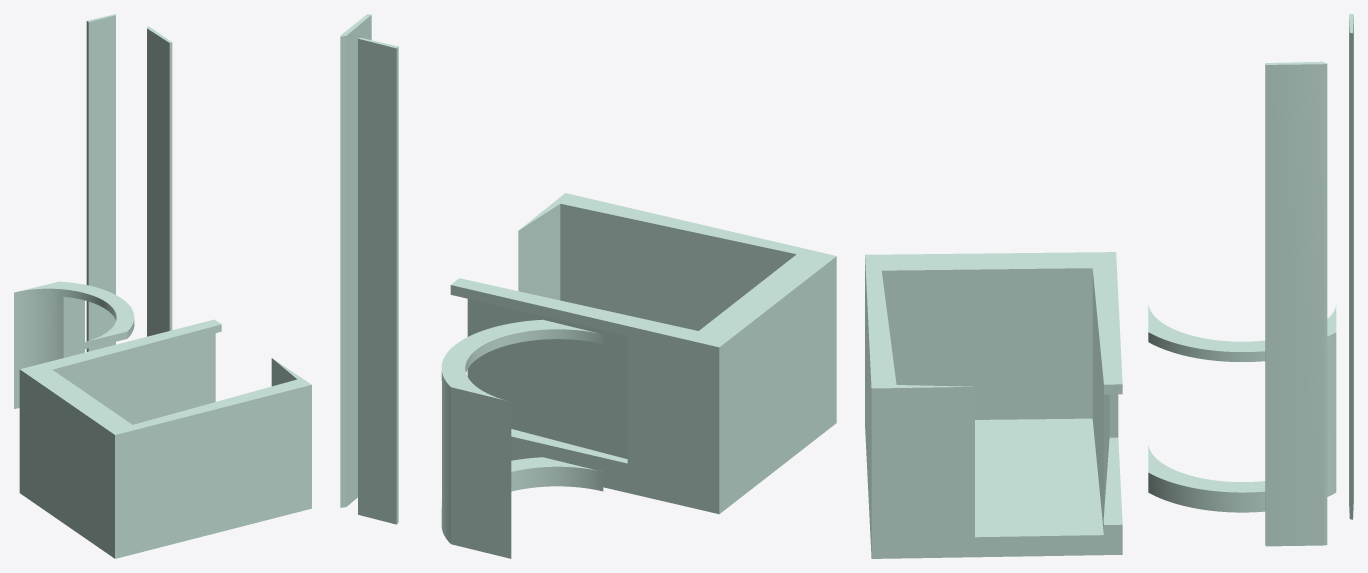
3 renders of one model, left to right at view 1: azimuth 30°, elevation 25°; view 2: azimuth 150°, elevation 25°; view 3: azimuth 270°, elevation 25°, orthographic. The views are drawn at different scales.
Parts seen in each view (by area): view 1: Renderer Node; view 2: Renderer Node; view 3: Renderer Node.
Part boxes in pixels (x1,y1,x2,y2): Renderer Node: (14,14,311,558); Renderer Node: (340,14,836,558); Renderer Node: (865,14,1353,558).
Size of the model in its own units: 0.4641 by 0.7969 by 0.6905.
